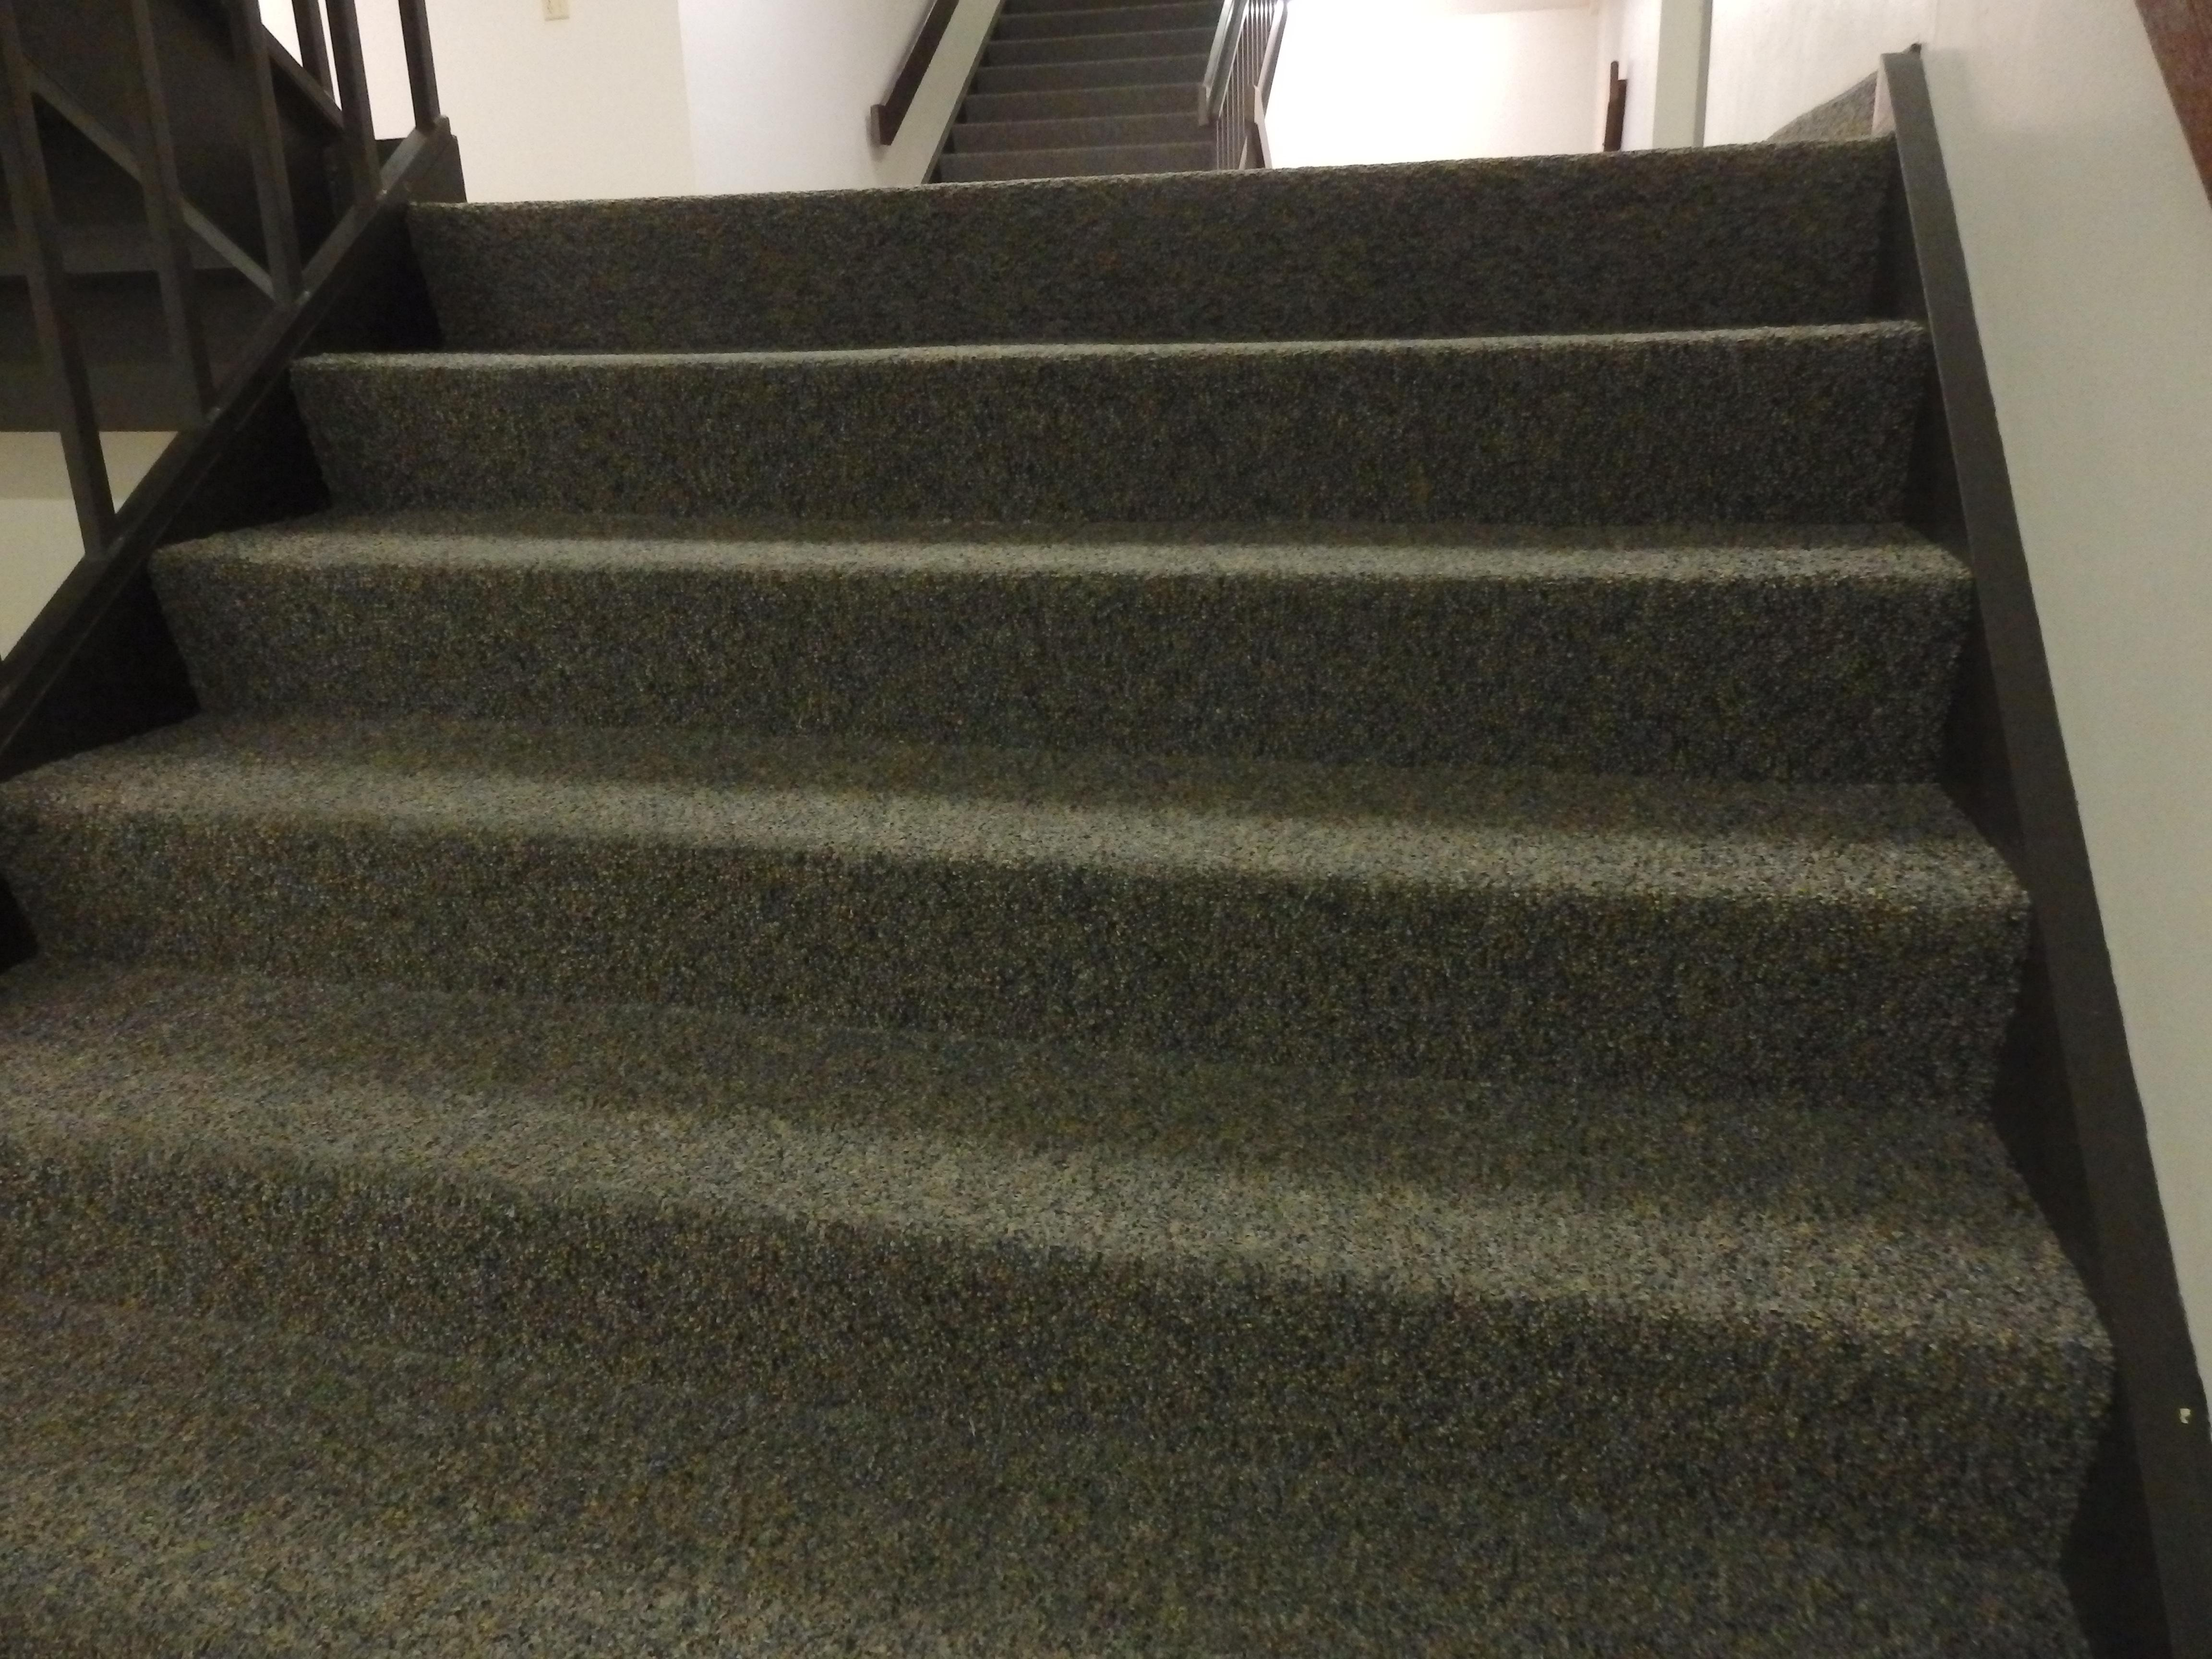stairs_up: (28, 139, 1944, 1375)
